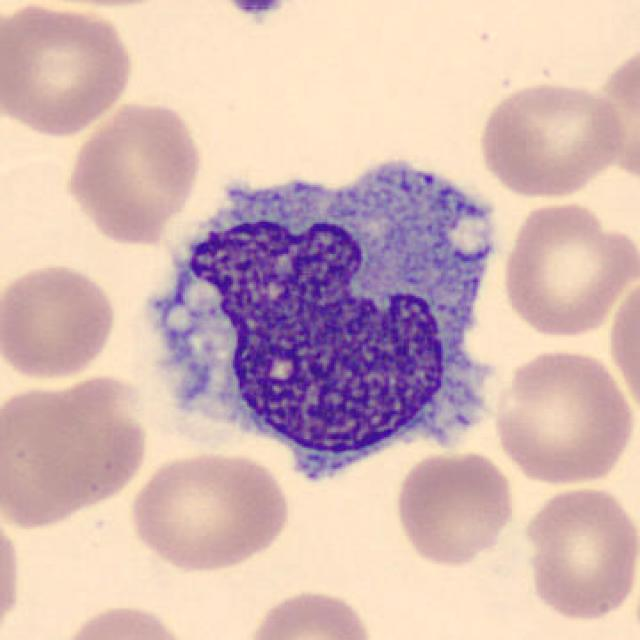Monocyte: (130, 139, 519, 494)
Platelets: (222, 0, 291, 19)
RBC: (2, 370, 153, 520), (60, 97, 206, 245), (124, 448, 294, 575), (489, 344, 636, 488), (498, 198, 636, 340), (473, 76, 629, 201), (0, 0, 138, 139), (519, 481, 638, 626), (389, 448, 519, 568), (0, 260, 121, 384), (240, 585, 379, 640), (51, 601, 196, 640), (606, 270, 640, 420), (0, 502, 27, 640), (10, 0, 186, 12)
